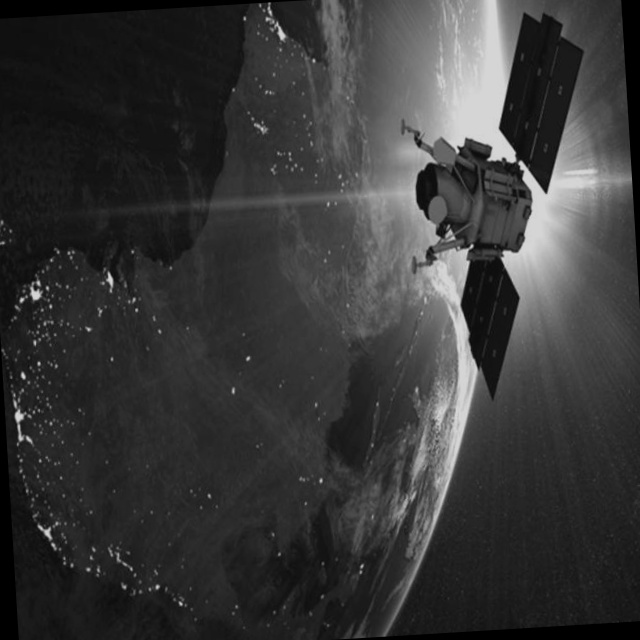medium_debris: (388, 1, 608, 406)
